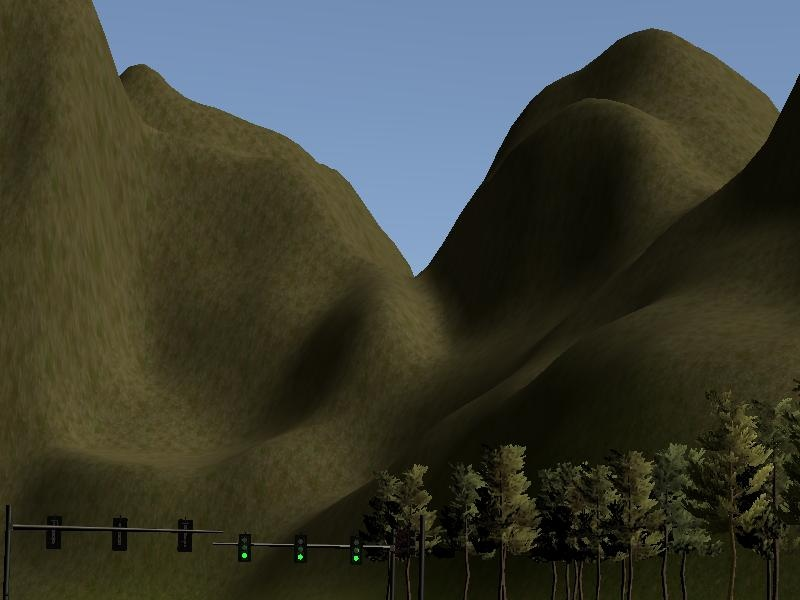green: (236, 531, 254, 562), (293, 533, 308, 565), (350, 535, 363, 566)
